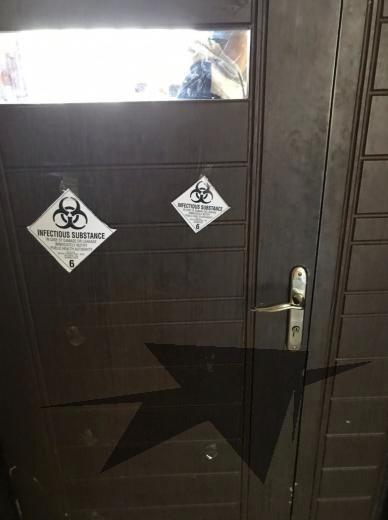infectious-substance: (30, 190, 111, 270), (174, 174, 230, 232)
